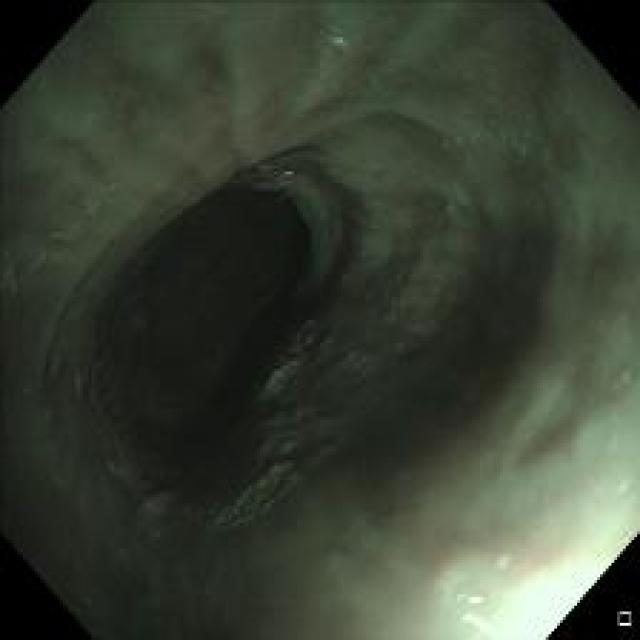color misalignment: (452, 584, 485, 634), (332, 32, 351, 52), (285, 166, 298, 179)
contrast: (84, 125, 331, 468)
saturation: (484, 562, 608, 630)
specularity: (462, 610, 486, 631), (466, 592, 488, 606), (455, 590, 466, 601)
